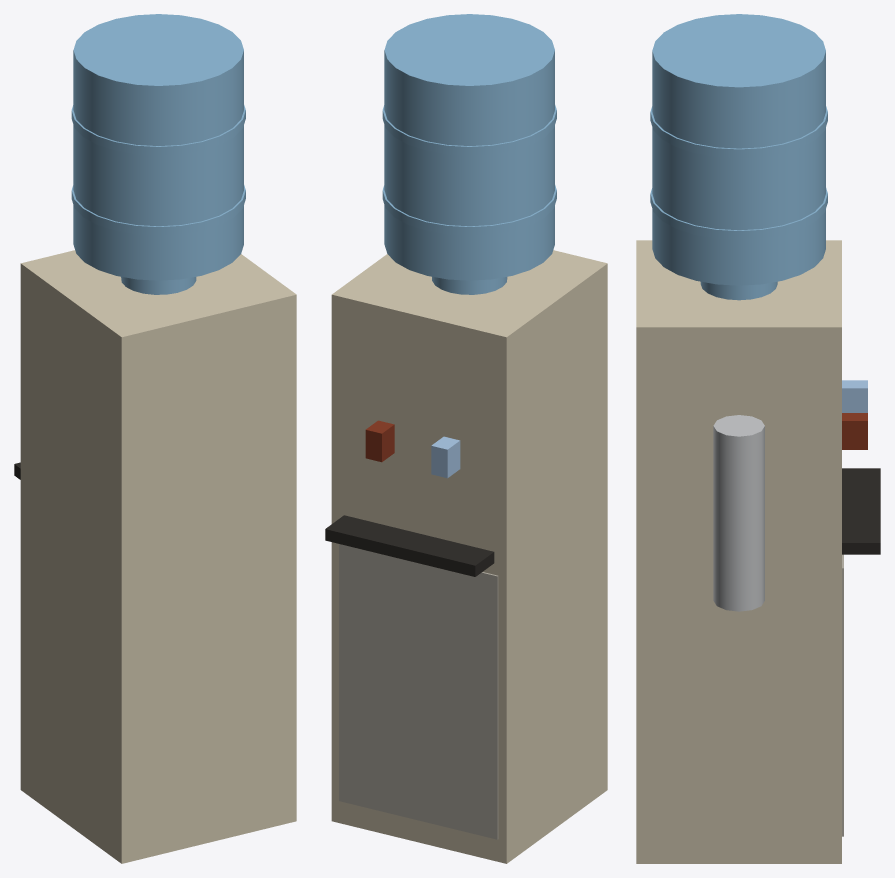
Rendered from SM_80s_WaterCooler.glb.
3 views of the same model, side by side, from view 1: azimuth 30°, elevation 25°; view 2: azimuth 150°, elevation 25°; view 3: azimuth 270°, elevation 25° (orthographic).
Visible parts, largest first — view 1: SM_80s_WaterCooler; view 2: SM_80s_WaterCooler; view 3: SM_80s_WaterCooler.
Boxes of the visible parts, <box> form: SM_80s_WaterCooler: <box>14,14,296,863</box>; SM_80s_WaterCooler: <box>325,14,607,863</box>; SM_80s_WaterCooler: <box>636,14,880,863</box>.
Size of the model in its own units: 0.528 by 1.74 by 0.5016.
